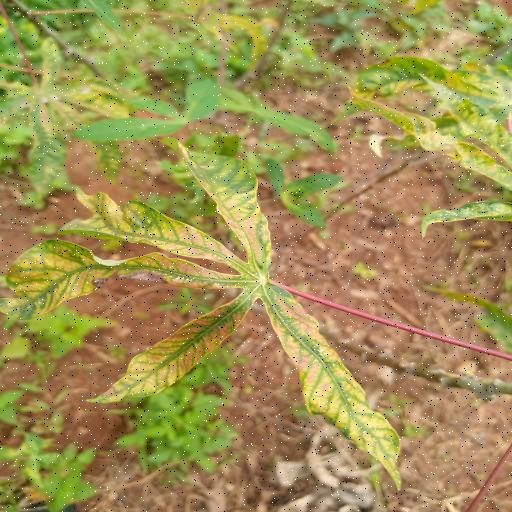Cassava_Mosaic: (0, 145, 408, 483)
